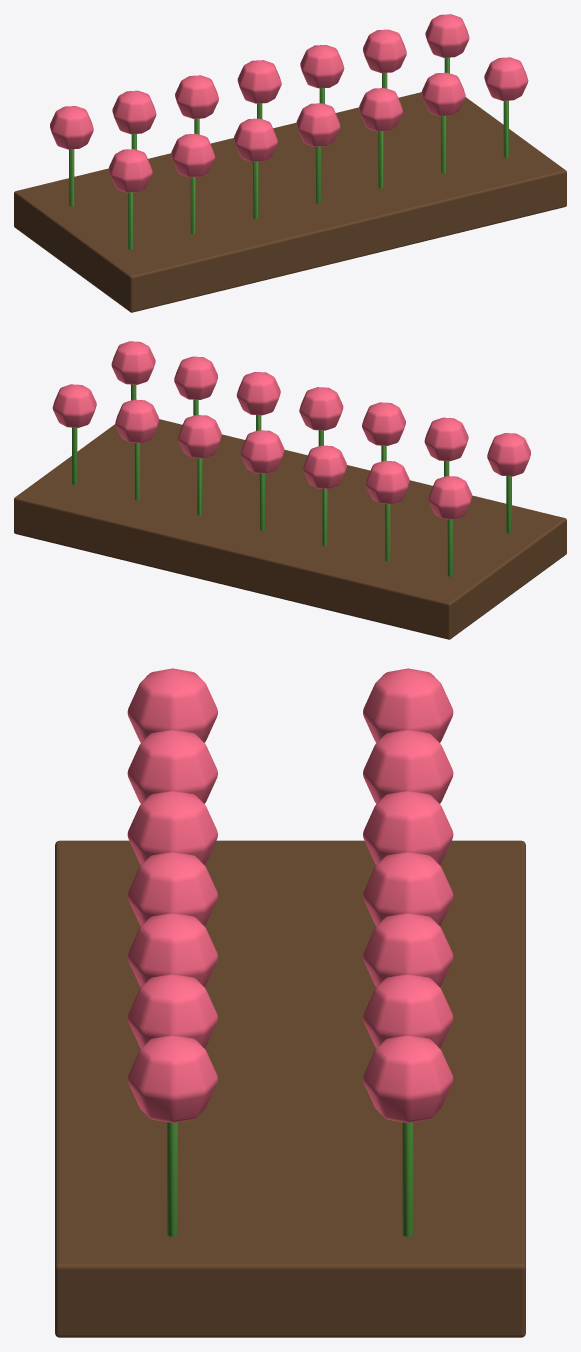
Rendered from flowerbed.glb.
3 renders of one model, top to bottom at view 1: azimuth 30°, elevation 25°; view 2: azimuth 150°, elevation 25°; view 3: azimuth 270°, elevation 25°, orthographic. The views are drawn at different scales.
Parts seen in each view (by area): view 1: flowerbed; view 2: flowerbed; view 3: flowerbed.
Part boxes in pixels (x1=…): flowerbed: x1=14, y1=14, x2=566, y2=312; flowerbed: x1=14, y1=341, x2=566, y2=639; flowerbed: x1=55, y1=668, x2=525, y2=1337.
Bounding box in the file's own units: 3 × 0.89 × 1.4.
